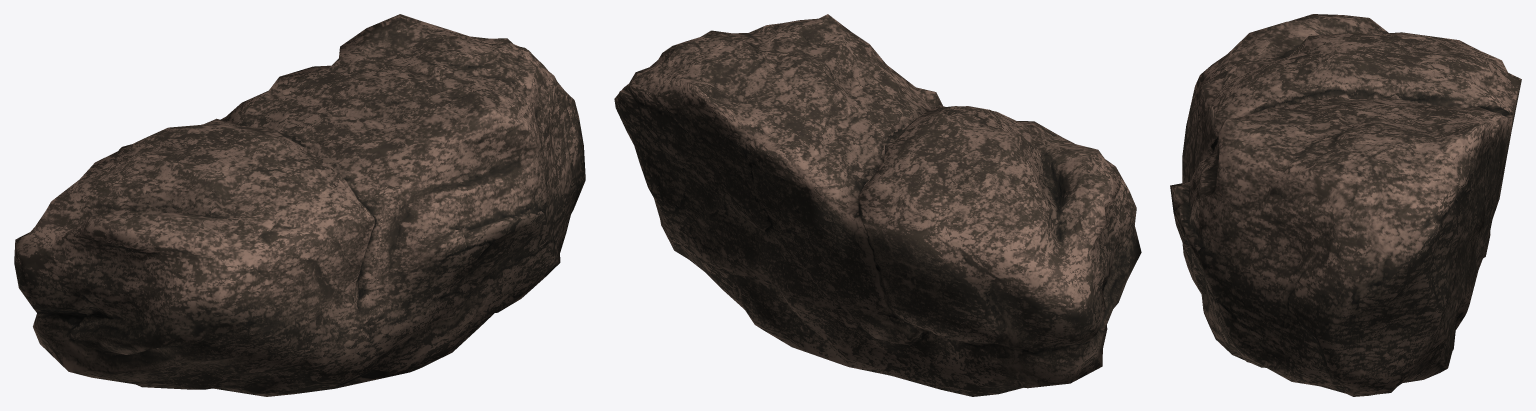
The model's file is mm8_deco_rock54.glb.
3 renders of one model, left to right at view 1: azimuth 30°, elevation 25°; view 2: azimuth 150°, elevation 25°; view 3: azimuth 270°, elevation 25°, orthographic. The views are drawn at different scales.
Visible parts, largest first — view 1: Rock54; view 2: Rock54; view 3: Rock54.
Part boxes in pixels (x1,y1,x2,y2): Rock54: (14, 14, 585, 396); Rock54: (614, 14, 1141, 396); Rock54: (1170, 14, 1521, 396).
Size of the model in its own units: 1.52 by 0.7651 by 0.8225.
1 material, 1 textured.
